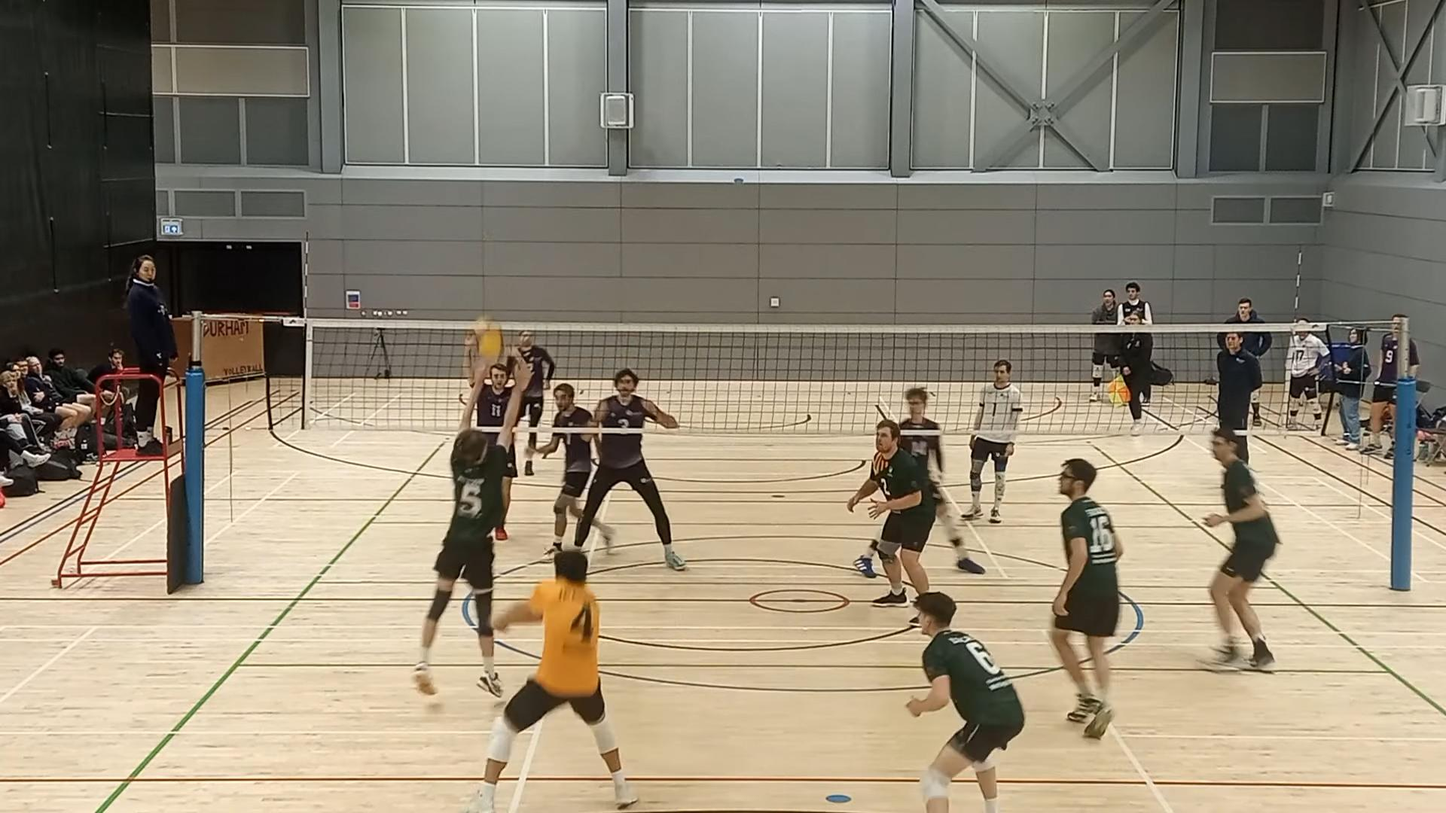Player: (466, 550, 637, 812), (907, 593, 1024, 812), (1050, 460, 1122, 738), (1204, 428, 1278, 671), (846, 420, 935, 606), (899, 387, 985, 574), (575, 432, 686, 570), (963, 359, 1022, 523), (538, 432, 595, 553), (516, 330, 555, 476), (476, 364, 525, 437)
Receive: (414, 357, 537, 705)
